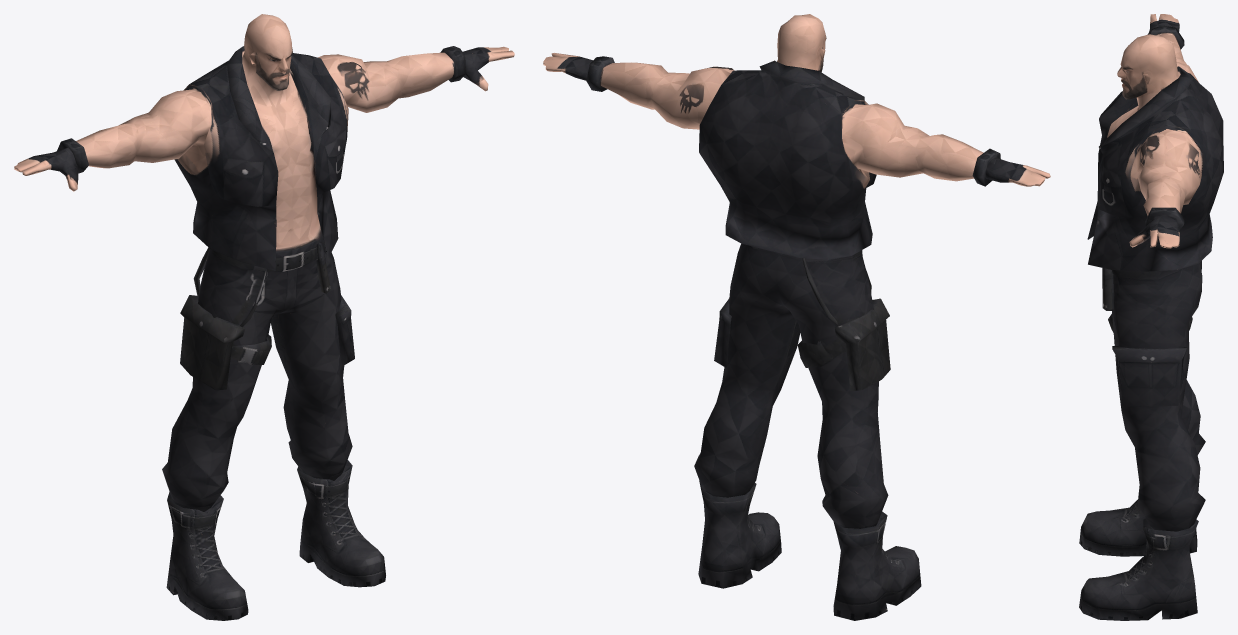
Rendered from thug_white_male_brute.glb.
The picture shows the model from 3 angles, left to right: view 1: azimuth 30°, elevation 25°; view 2: azimuth 150°, elevation 25°; view 3: azimuth 270°, elevation 25°; orthographic projection. The views are drawn at different scales.
Bounding box in the file's own units: 0.9199 × 1 × 0.2432.
1 material, 1 textured.
